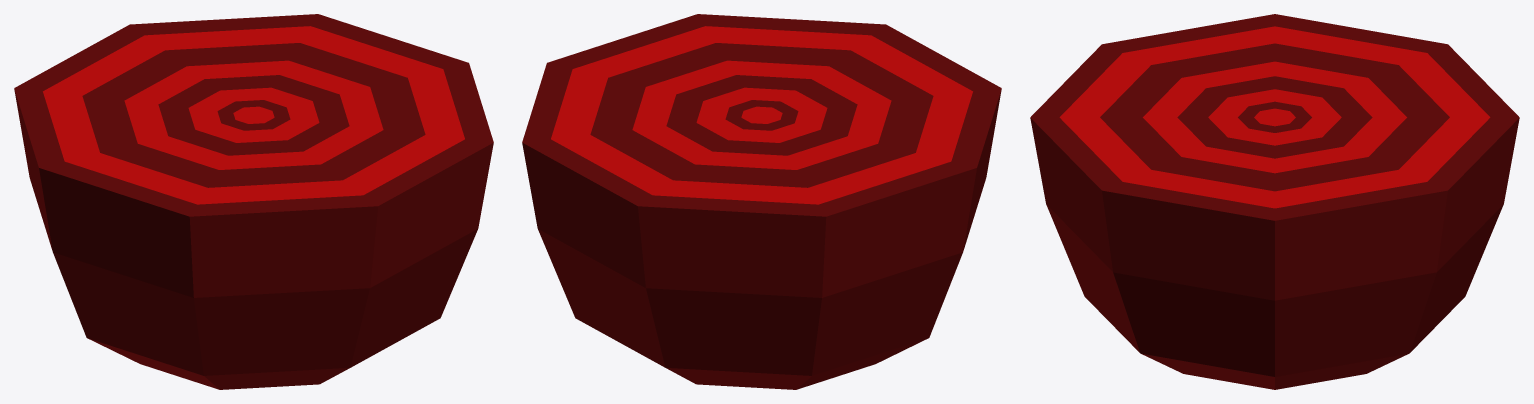
File: beetroot02.gltf
3 renders of one model, left to right at view 1: azimuth 30°, elevation 25°; view 2: azimuth 150°, elevation 25°; view 3: azimuth 270°, elevation 25°, orthographic.
Visible parts, largest first — view 1: Cylinder; view 2: Cylinder; view 3: Cylinder.
Boxes of the visible parts, box(x1,y1,x2,y2) form: Cylinder: box(14, 14, 493, 389); Cylinder: box(522, 14, 1001, 389); Cylinder: box(1030, 14, 1519, 389).
Bounding box in the file's own units: 0.0725 × 0.0401 × 0.0725.
Materials: 1 (1 with a texture image).
